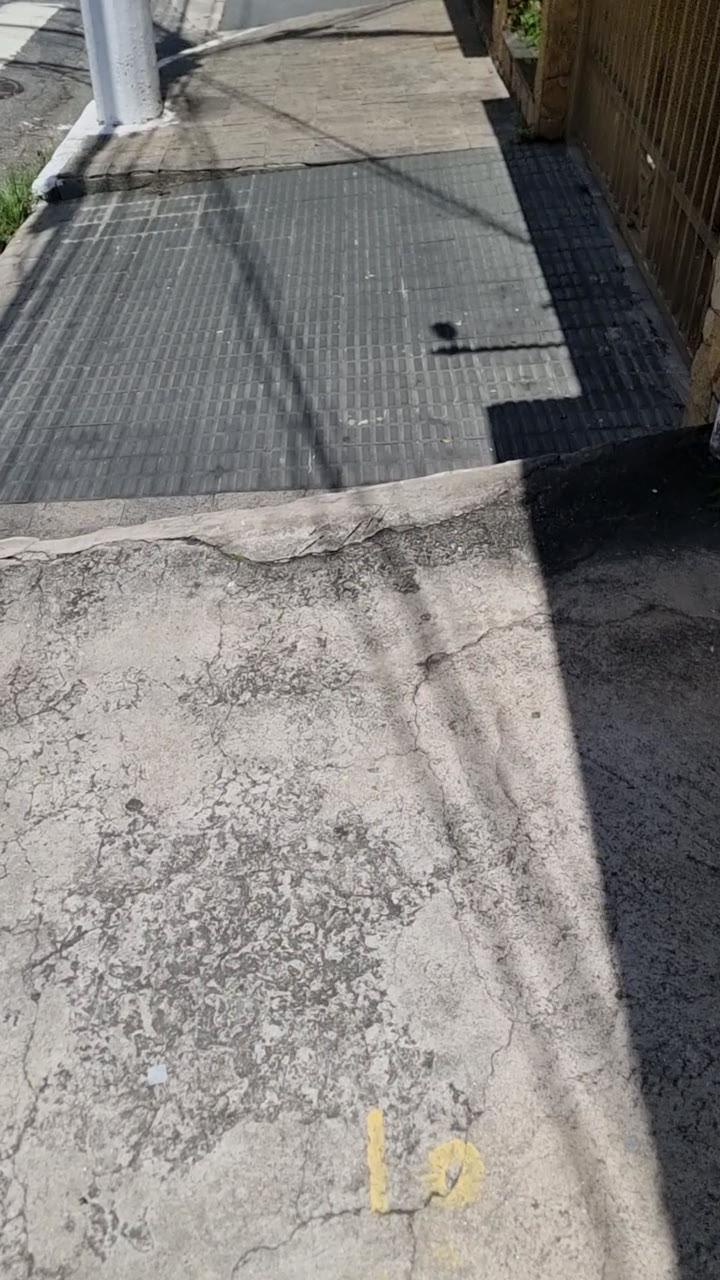desnivel: (0, 486, 706, 589)
